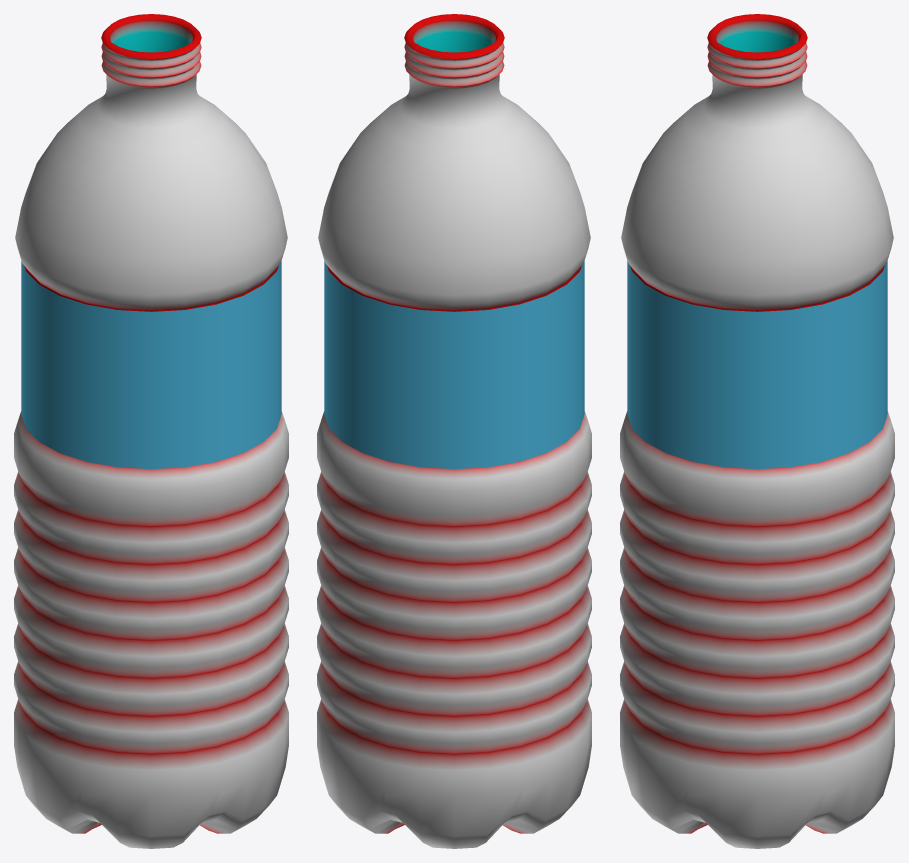
File: PlasticBottle.fbx
3 views of the same model, side by side, from view 1: azimuth 30°, elevation 25°; view 2: azimuth 150°, elevation 25°; view 3: azimuth 270°, elevation 25° (orthographic).
Visible parts, largest first — view 1: Circle.001; view 2: Circle.001; view 3: Circle.001.
Boxes of the visible parts, bbox=[...] form: Circle.001: bbox=[14, 14, 288, 848]; Circle.001: bbox=[317, 14, 591, 848]; Circle.001: bbox=[620, 14, 894, 848].
Bounding box in the file's own units: 0.562 × 1.76 × 0.562.
